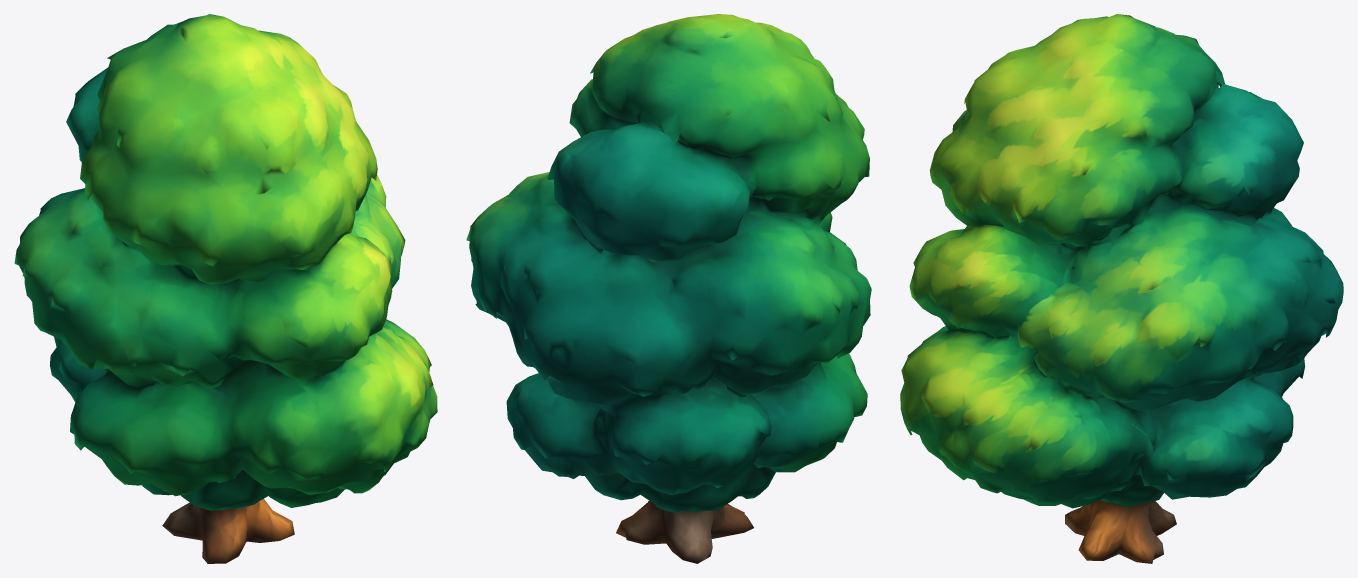
3 renders of one model, left to right at view 1: azimuth 30°, elevation 25°; view 2: azimuth 150°, elevation 25°; view 3: azimuth 270°, elevation 25°, orthographic. The views are drawn at different scales.
Parts seen in each view (by area): view 1: tripo_node_9a66c32c-0432-4bdb-8478-94c188a6659d; view 2: tripo_node_9a66c32c-0432-4bdb-8478-94c188a6659d; view 3: tripo_node_9a66c32c-0432-4bdb-8478-94c188a6659d.
Boxes of the visible parts, x1=… form: tripo_node_9a66c32c-0432-4bdb-8478-94c188a6659d: x1=14, y1=14, x2=437, y2=563; tripo_node_9a66c32c-0432-4bdb-8478-94c188a6659d: x1=466, y1=14, x2=871, y2=563; tripo_node_9a66c32c-0432-4bdb-8478-94c188a6659d: x1=900, y1=14, x2=1343, y2=563.
Size of the model in its own units: 1.15 by 1.6 by 1.26.
Materials: 1 (1 with a texture image).
